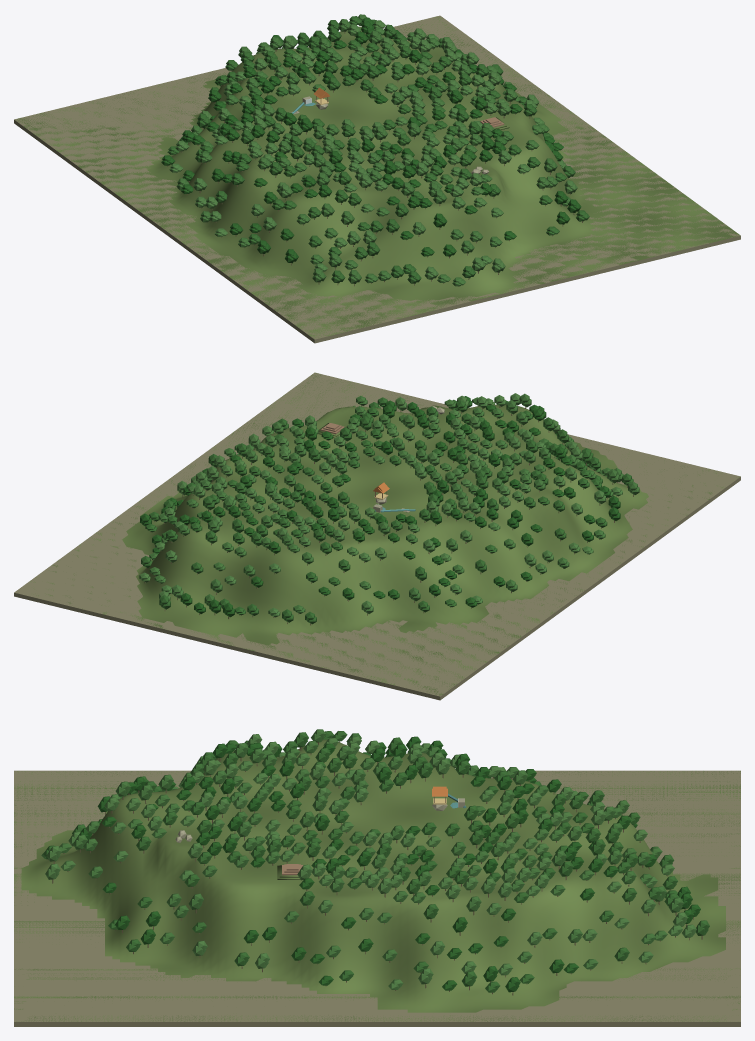
The model's file is phnom-kulen-normal.glb.
The picture shows the model from 3 angles, top to bottom: view 1: azimuth 30°, elevation 25°; view 2: azimuth 150°, elevation 25°; view 3: azimuth 270°, elevation 25°; orthographic projection. The views are drawn at different scales.
Visible parts, largest first — view 1: Forested plateau, Earth section, Forest canopy 1, Forest canopy 3, Forest canopy 0, Forest canopy 2, Forest trunks; view 2: Forested plateau, Earth section, Forest canopy 3, Forest canopy 1, Forest canopy 0, Forest canopy 2, Forest trunks; view 3: Forested plateau, Earth section, Forest canopy 3, Forest canopy 2, Forest canopy 1, Forest canopy 0, Forest trunks.
Boxes of the visible parts, x1,y1,x2,y2 form: Forested plateau: (15,17,740,338); Earth section: (14,15,740,343); Forest canopy 1: (167,16,589,283); Forest canopy 3: (169,20,577,279); Forest canopy 0: (161,17,581,263); Forest canopy 2: (176,14,570,286); Forest trunks: (167,32,582,286); Forested plateau: (30,373,740,695); Earth section: (14,372,740,700); Forest canopy 3: (139,393,622,617); Forest canopy 1: (141,397,633,624); Forest canopy 0: (140,396,620,617); Forest canopy 2: (149,393,639,613); Forest trunks: (144,405,633,625); Forested plateau: (14,739,740,1021); Earth section: (14,770,740,1026); Forest canopy 3: (45,734,696,989); Forest canopy 2: (41,729,683,969); Forest canopy 1: (43,731,709,992); Forest canopy 0: (78,736,700,992); Forest trunks: (48,741,702,995).
Size of the model in its own units: 54 by 9.71 by 66.
